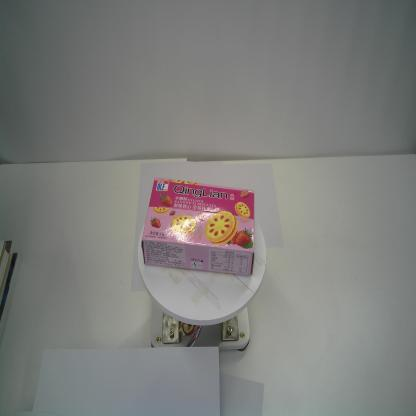Dessert: (138, 176, 257, 278)
